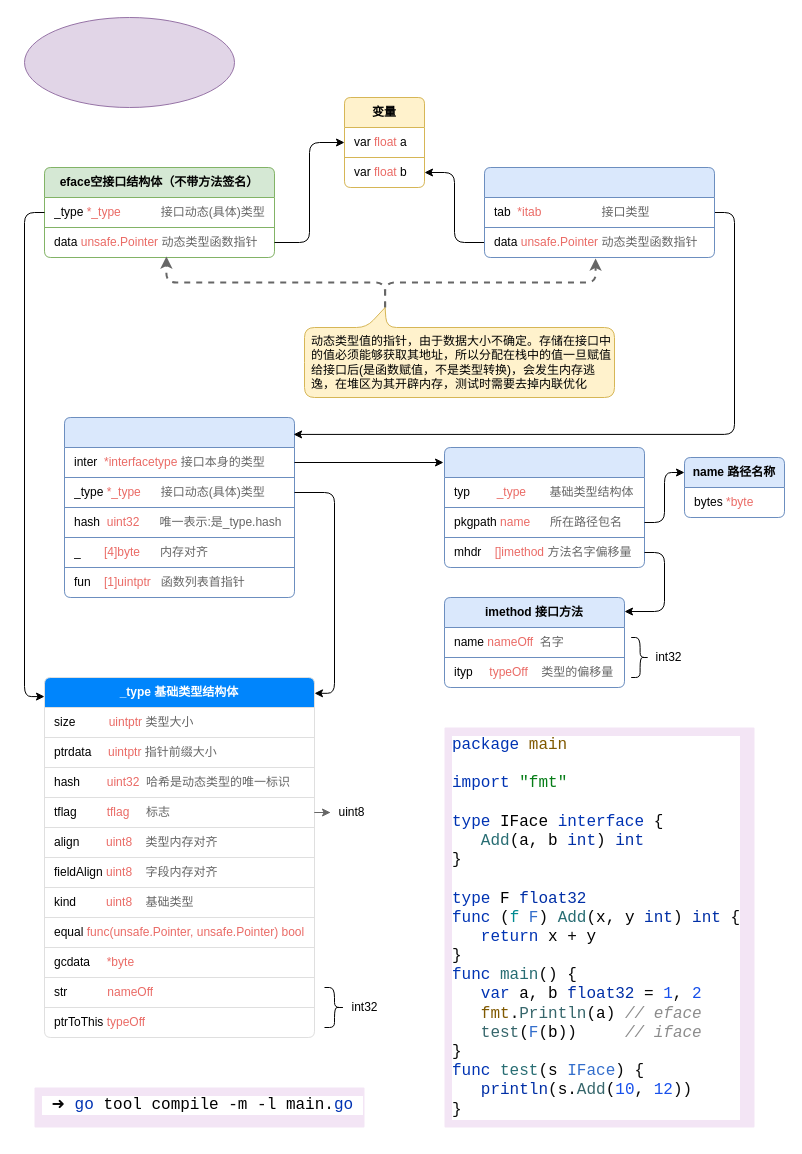
The diagram is 802 pixels wide and 1154 high, and some of its shapes have lost their labels. Each missing label, with the box of its shape:
Golang接口interface 结构体 eface 和 iface: (24, 16, 234, 108)
iface 带方法签名接口结构体: (484, 166, 714, 258)
interfacetype 接口本身的类型: (444, 446, 644, 568)
itab接口结构体: (64, 416, 294, 598)
